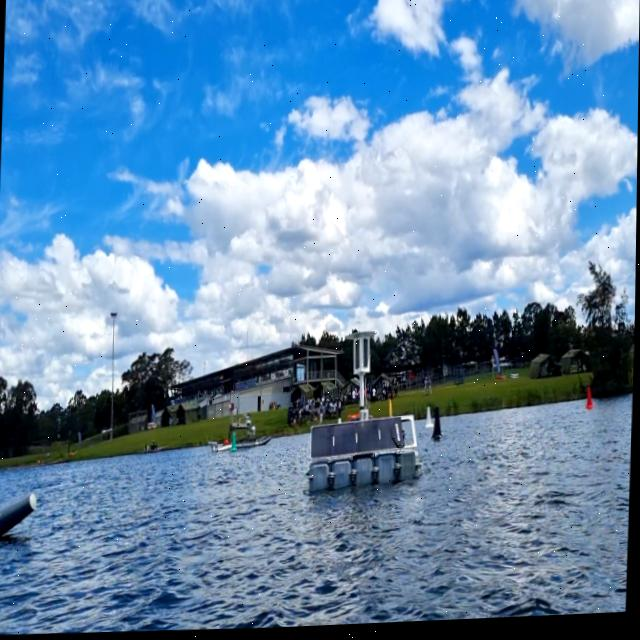led: (362, 340, 369, 373), (355, 342, 362, 372)
